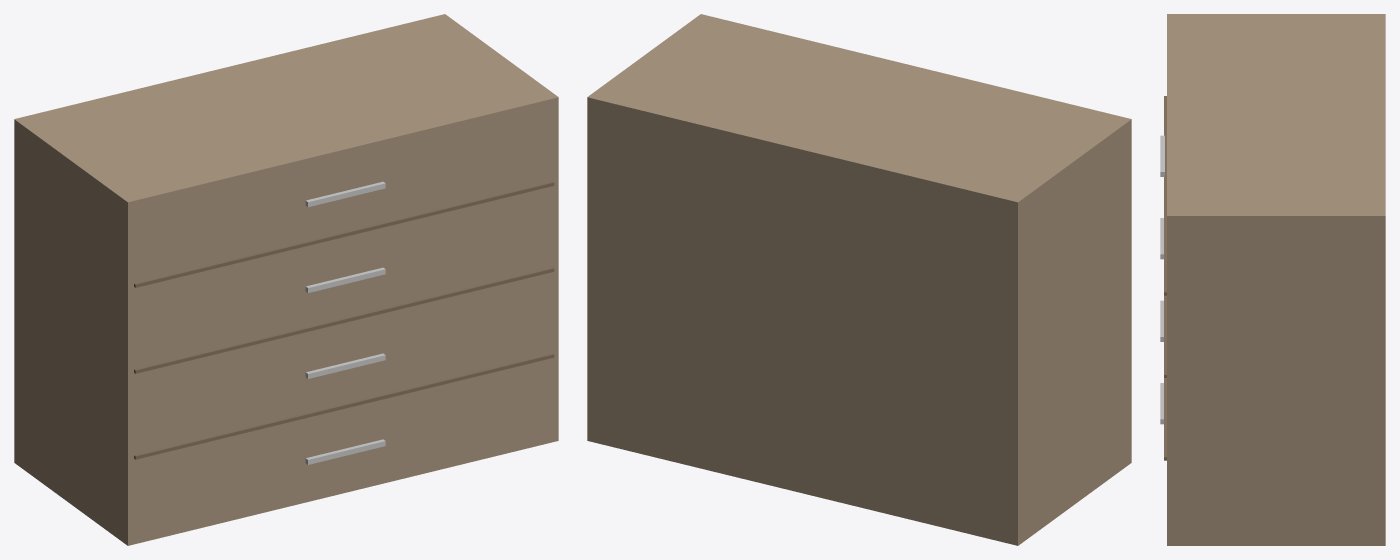
File: dresser.glb
3 renders of one model, left to right at view 1: azimuth 30°, elevation 25°; view 2: azimuth 150°, elevation 25°; view 3: azimuth 270°, elevation 25°, orthographic. The views are drawn at different scales.
Visible parts, largest first — view 1: body, seam1, seam2, seam3; view 2: body; view 3: body, seam3.
Part boxes in pixels (x1,y1,x2,y2): body: [14, 14, 558, 545]; seam1: [134, 353, 554, 459]; seam2: [134, 267, 554, 373]; seam3: [134, 181, 554, 287]; body: [587, 14, 1131, 545]; body: [1167, 14, 1385, 545]; seam3: [1164, 96, 1166, 295].
Size of the model in its own units: 1.07 by 0.8128 by 0.5027.
